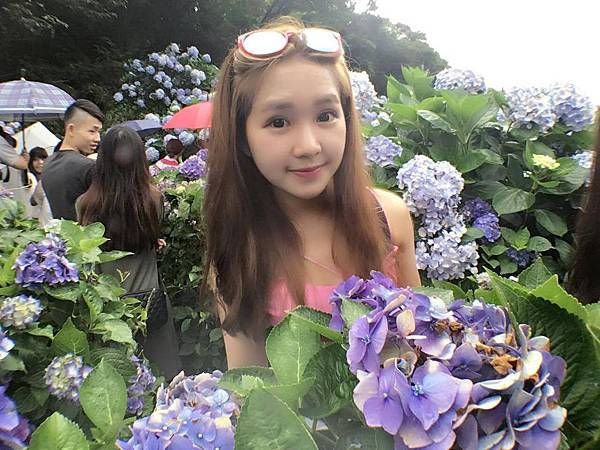people: (207, 23, 423, 372), (87, 124, 173, 394), (51, 99, 98, 222), (24, 148, 45, 194)
